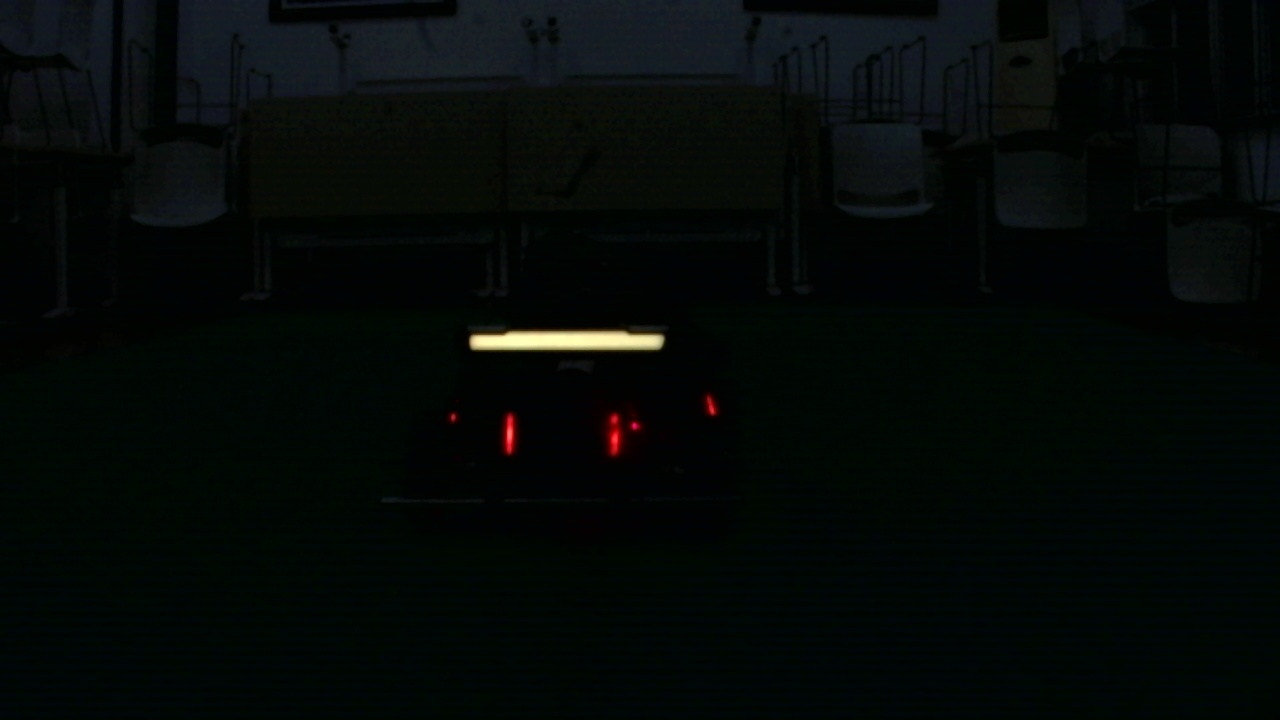lamp: (502, 415, 519, 457), (608, 410, 619, 460)
pair1: (503, 406, 624, 454)
